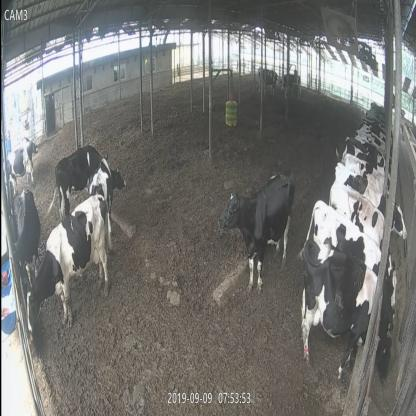cow: (302, 240, 390, 378), (27, 196, 109, 332), (220, 172, 295, 294), (56, 145, 102, 211), (12, 188, 41, 276), (5, 138, 38, 195), (89, 160, 127, 208)
